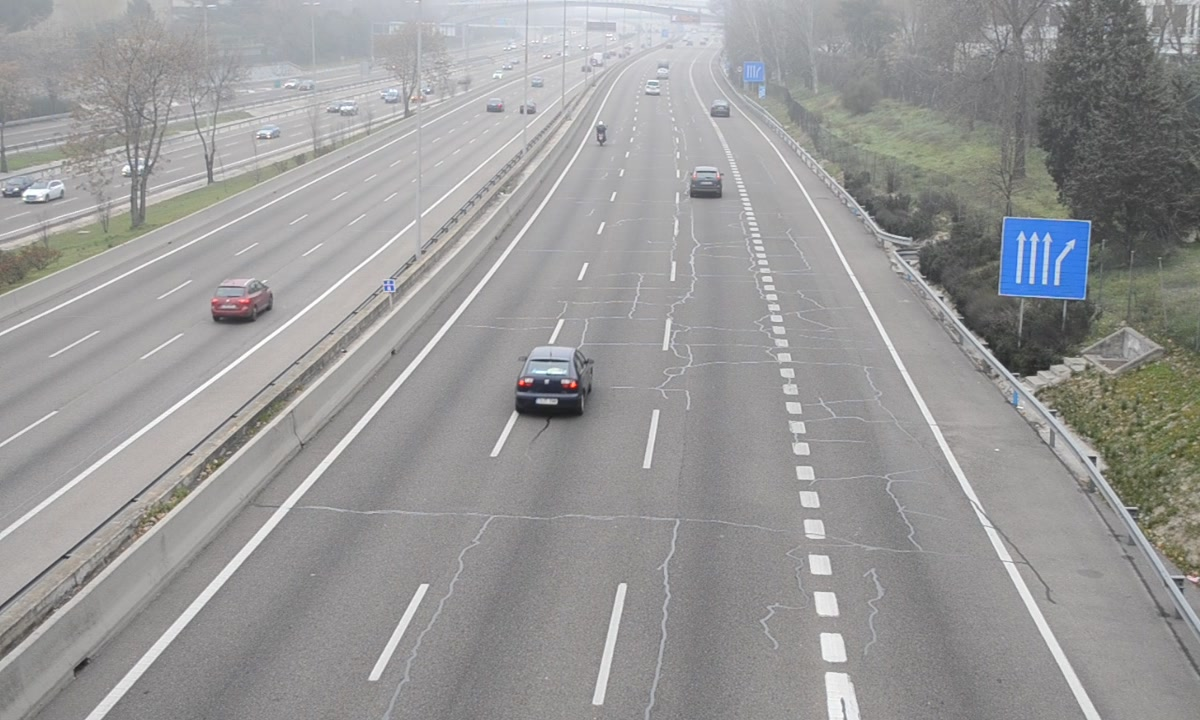car: (513, 344, 593, 415), (687, 163, 724, 199), (710, 101, 729, 118)
motorcycle: (594, 121, 606, 151)
